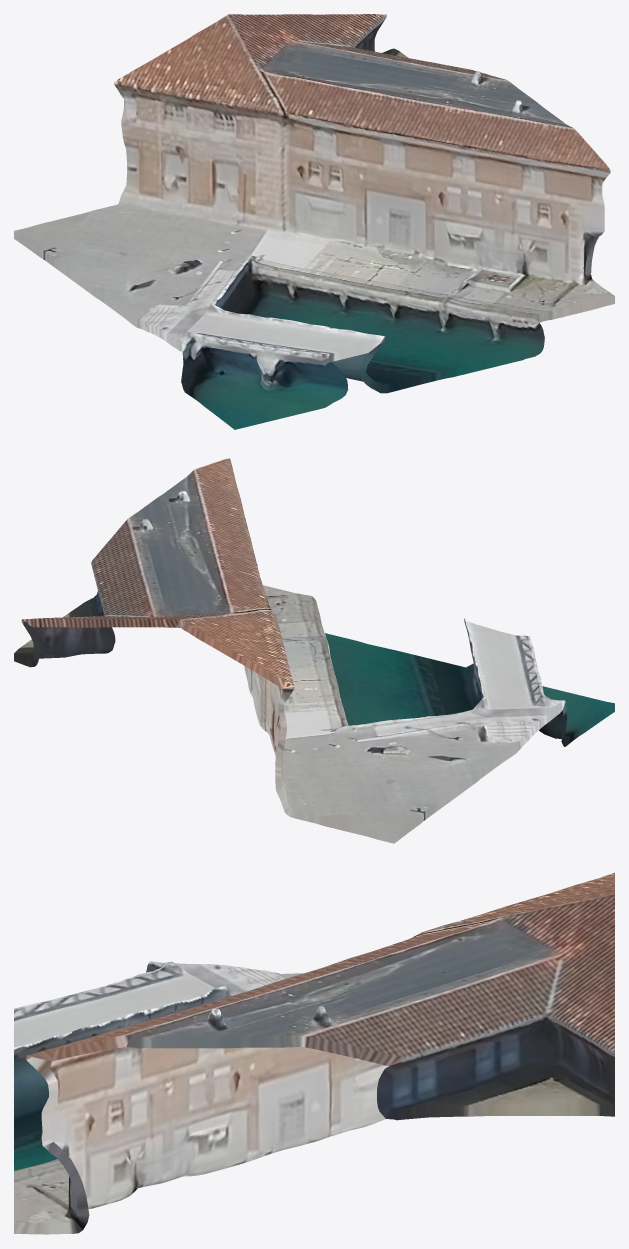
The model's file is z20-167795-405226-h0-yup-uvflip-v3-world.glb.
3 views of the same model, one above another, from view 1: azimuth 30°, elevation 25°; view 2: azimuth 150°, elevation 25°; view 3: azimuth 270°, elevation 25° (orthographic). The views are drawn at different scales.
Bounding box in the file's own units: 30.16 × 15.32 × 30.32.
Materials: 1 (1 with a texture image).
